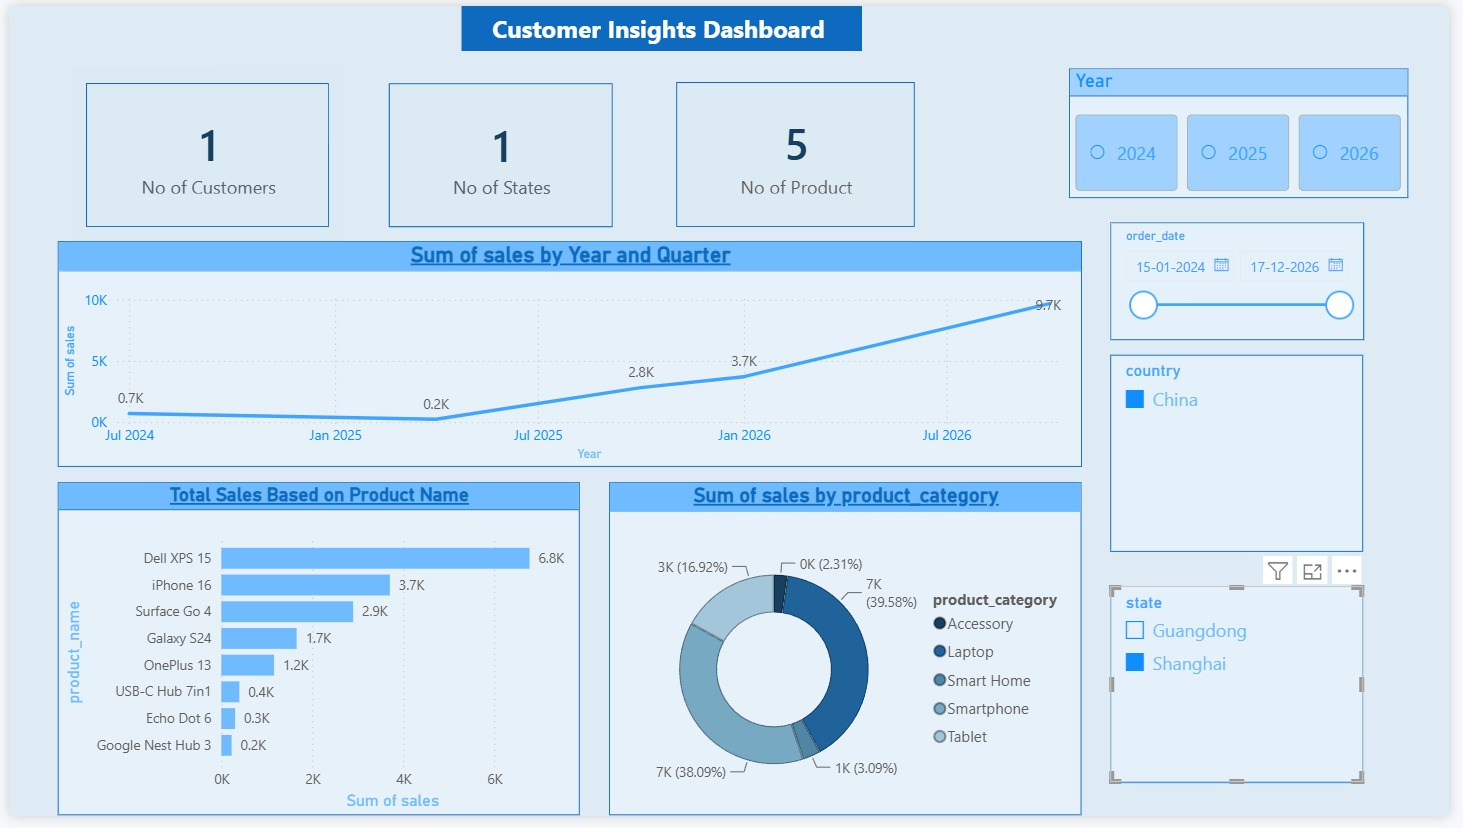

The page's visual inventory and layout, read from the dashboard file:
{"tool":"powerbi","page":{"name":"Page 1","canvas":[1280,720],"ordinal":0},"visuals":[{"type":"textbox","box":[402.5,0,356.2,40],"z":0},{"type":"clusteredBarChart","title":"Total Sales Based on Product Name","fields":{"Category":["orders.product_name"],"Y":["Sum(orders.sales)"]},"box":[43.8,423.8,463.8,296.2],"z":1000},{"type":"cardVisual","fields":{"Data":["Count(customers.state)"]},"box":[325,56.2,223.8,152.5],"z":2000},{"type":"cardVisual","fields":{"Data":["Count(customers.customer_id)"]},"box":[55.6,55.6,242.2,154.4],"z":3000},{"type":"cardVisual","fields":{"Data":["Count(orders.product_category)"]},"box":[581.2,55,236.2,153.8],"z":4000},{"type":"slicer","fields":{"Values":["customers.country"]},"box":[978.3,310,225,175],"z":5000},{"type":"donutChart","fields":{"Y":["Sum(orders.sales)"],"Series":["orders.product_category"]},"box":[533.8,423.8,420,295.7],"z":6000},{"type":"lineChart","fields":{"Y":["Sum(orders.sales)"],"Category":["orders.order_date.Variation.Date Hierarchy.Year","orders.order_date.Variation.Date Hierarchy.Quarter","orders.order_date.Variation.Date Hierarchy.Month","orders.order_date.Variation.Date Hierarchy.Day"]},"box":[43.3,208.9,910,201.1],"z":7000},{"type":"slicer","fields":{"Values":["customers.state"]},"box":[978.3,515,225,175],"z":8000},{"type":"slicer","fields":{"Values":["orders.order_date"]},"box":[978.3,191.7,225.6,104.4],"z":9000},{"type":"advancedSlicerVisual","fields":{"Values":["orders.Year"]},"box":[941.7,55,301.7,115],"z":10000}]}

Visuals, with their boxes in screenshot pixels (x1, y1, x2, y2), scaled from the page's 1280x720 canvas onto the 1463x828 screenshot:
textbox: rect(460, 0, 867, 46)
"Total Sales Based on Product Name" clusteredBarChart: rect(50, 487, 580, 827)
cardVisual - Count(customers.state): rect(371, 65, 627, 240)
cardVisual - Count(customers.customer_id): rect(64, 64, 340, 241)
cardVisual - Count(orders.product_category): rect(664, 63, 934, 240)
slicer - customers.country: rect(1118, 356, 1375, 558)
donutChart - Sum(orders.sales) x orders.product_category: rect(610, 487, 1090, 827)
lineChart - Sum(orders.sales) x orders.order_date.Variation.Date Hierarchy.Year: rect(49, 240, 1090, 471)
slicer - customers.state: rect(1118, 592, 1375, 793)
slicer - orders.order_date: rect(1118, 220, 1376, 341)
advancedSlicerVisual - orders.Year: rect(1076, 63, 1421, 195)
